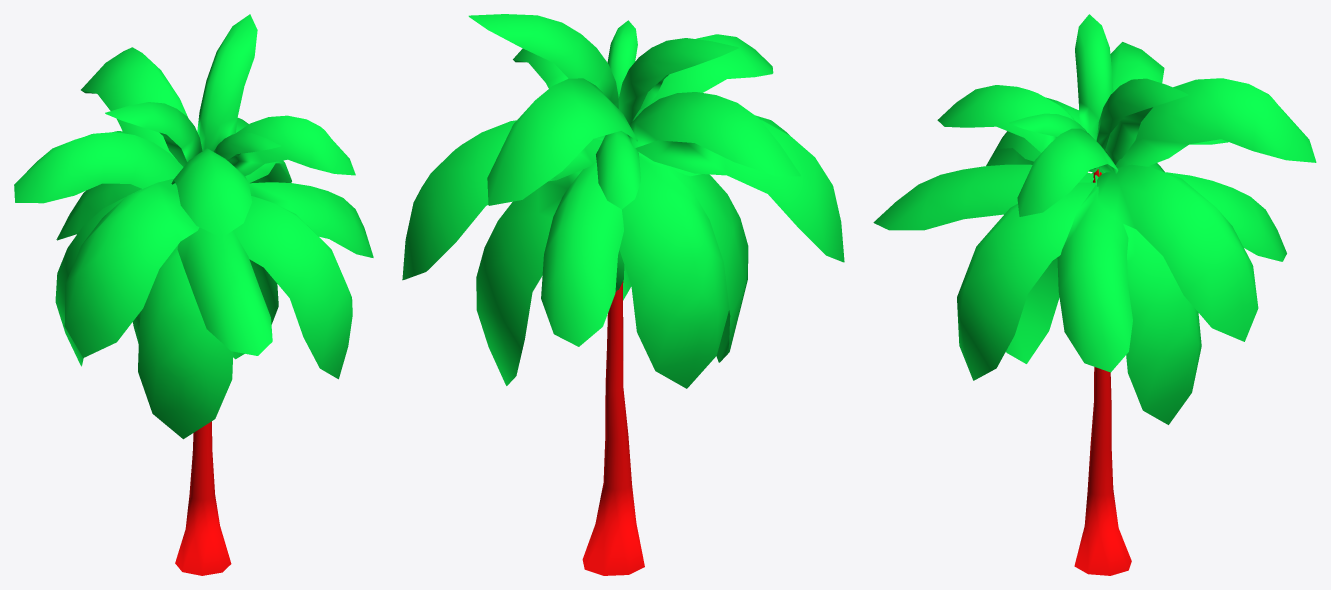
The model's file is Banana_Big_OneMesh_2018.FBX.
3 views of the same model, side by side, from view 1: azimuth 30°, elevation 25°; view 2: azimuth 150°, elevation 25°; view 3: azimuth 270°, elevation 25° (orthographic). The views are drawn at different scales.
Visible parts, largest first — view 1: Banana-Big_LOD0; view 2: Banana-Big_LOD0; view 3: Banana-Big_LOD0.
Boxes of the visible parts, x1,y1,x2,y2 form: Banana-Big_LOD0: [14, 14, 373, 575]; Banana-Big_LOD0: [402, 14, 844, 575]; Banana-Big_LOD0: [873, 14, 1316, 575].
Size of what is drawn, in the model's own units: 50.7 by 68.98 by 53.94.
